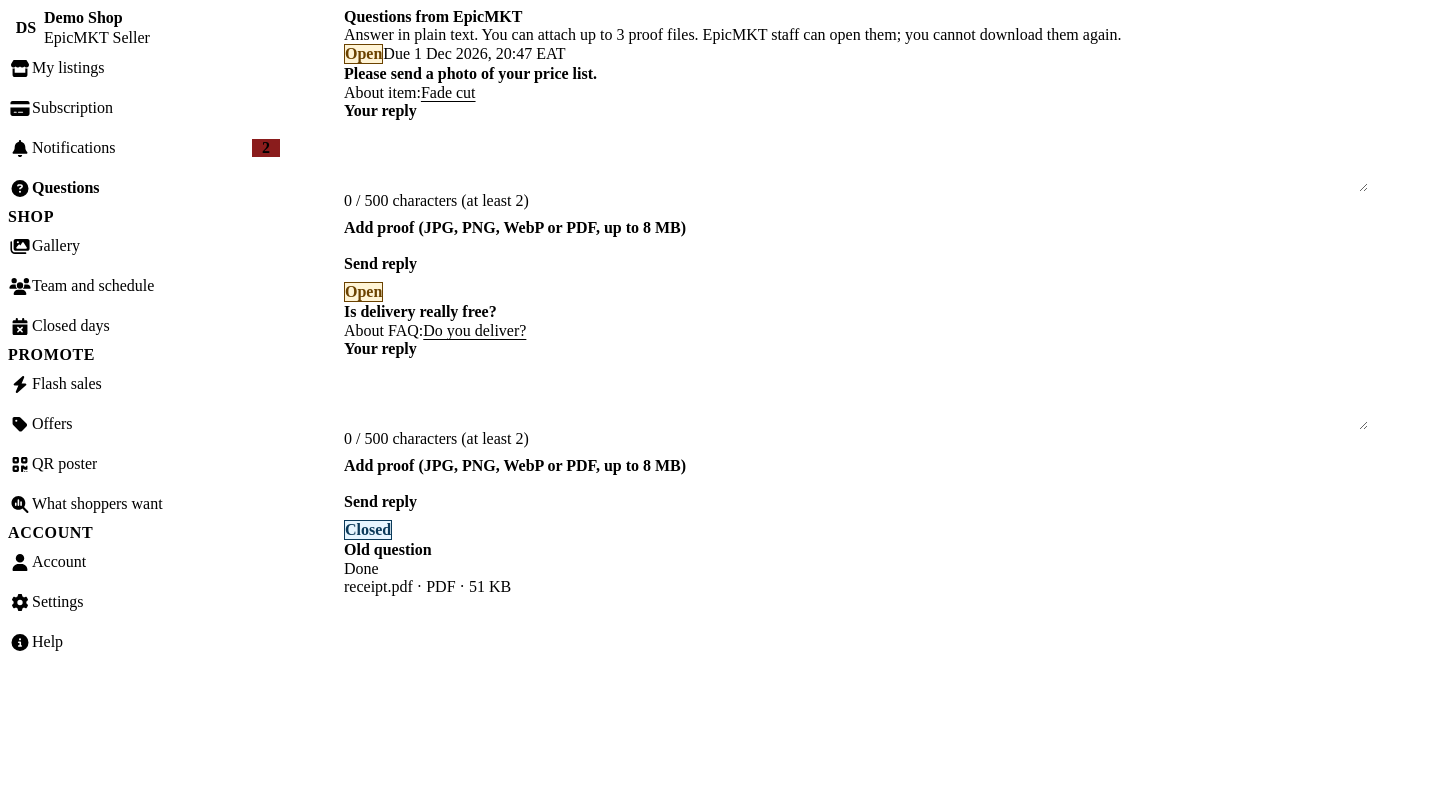
questions from the admin › replies without files
This screenshot has width=1440, height=803.
Type "Yes, free within town." into the text box labelled "Your reply" below "Is delivery really free?" at x=856, y=394, box [344,358,1368,430]
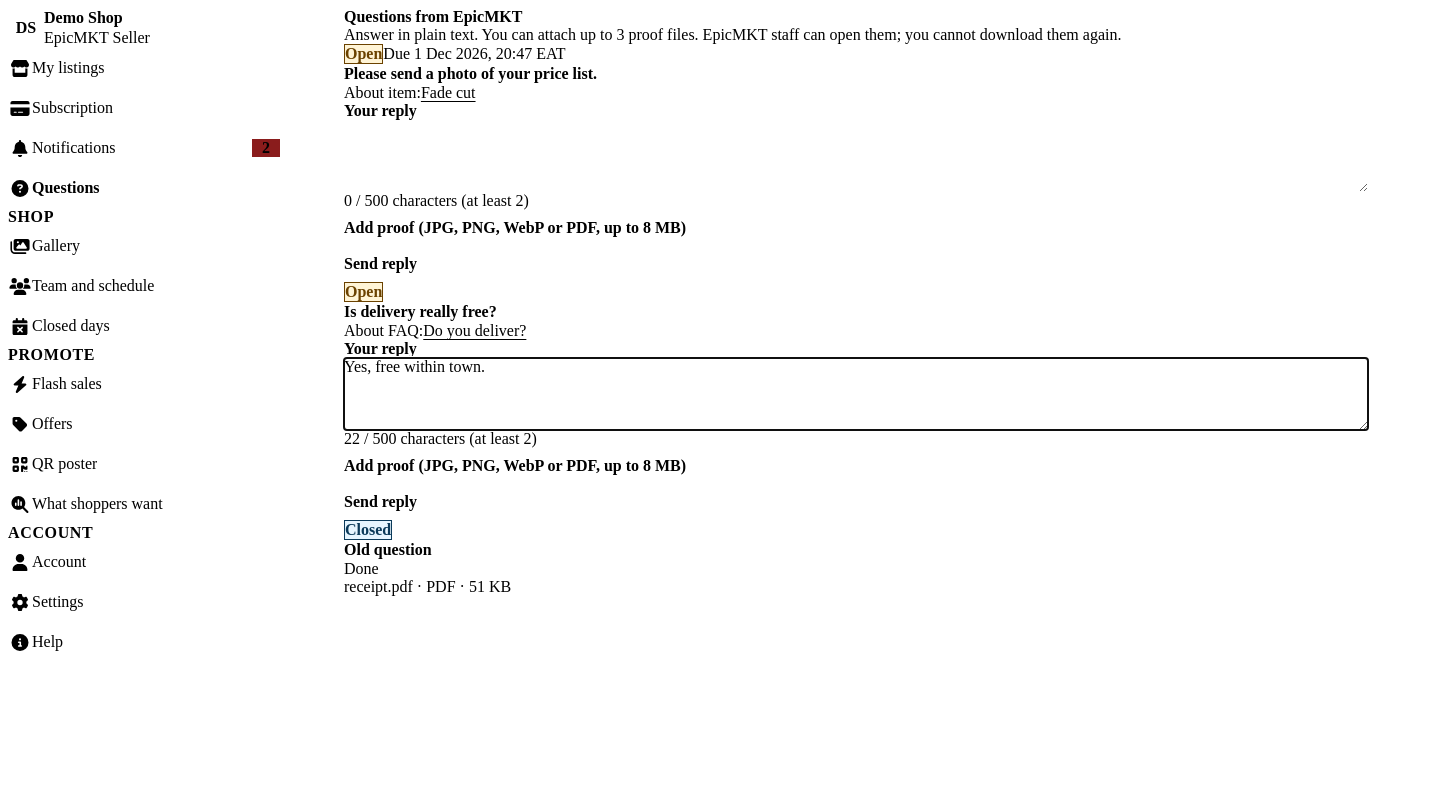
Click the button "Send reply" below "22" at x=381, y=502, box [344,484,417,520]
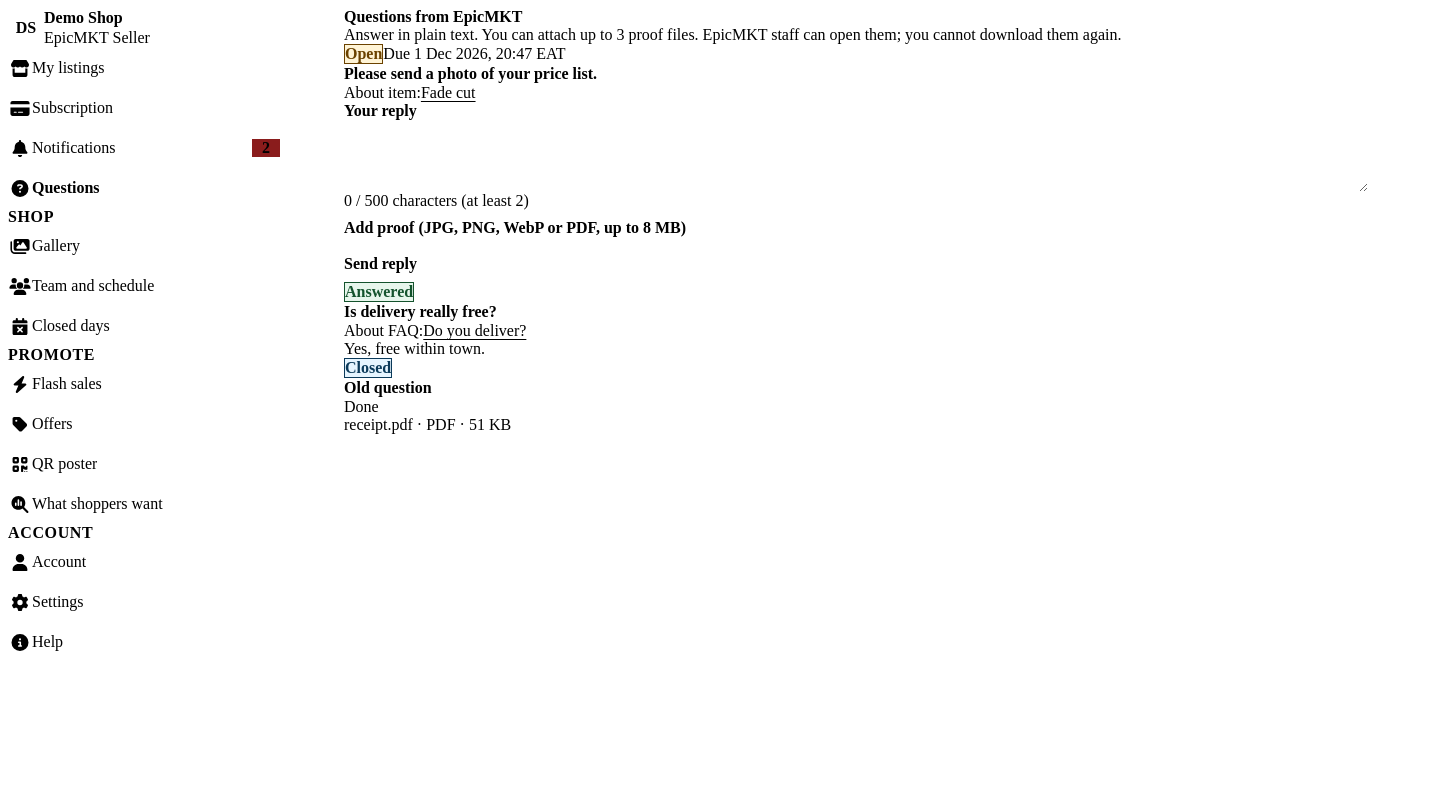
Now the text "Answered" is shown, box [344,282,414,302]
Now the text with test id "reply-text" reads "Yes, free within town.", box [344,340,485,357]
